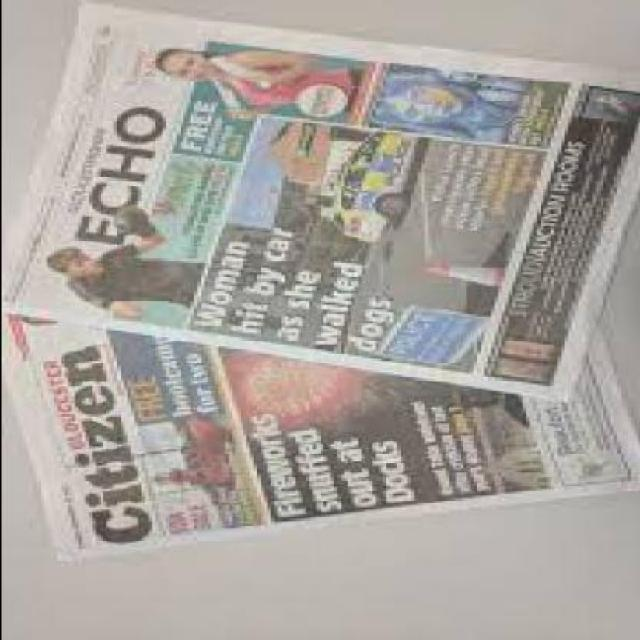PAPER: (0, 5, 637, 408), (3, 302, 637, 564)
